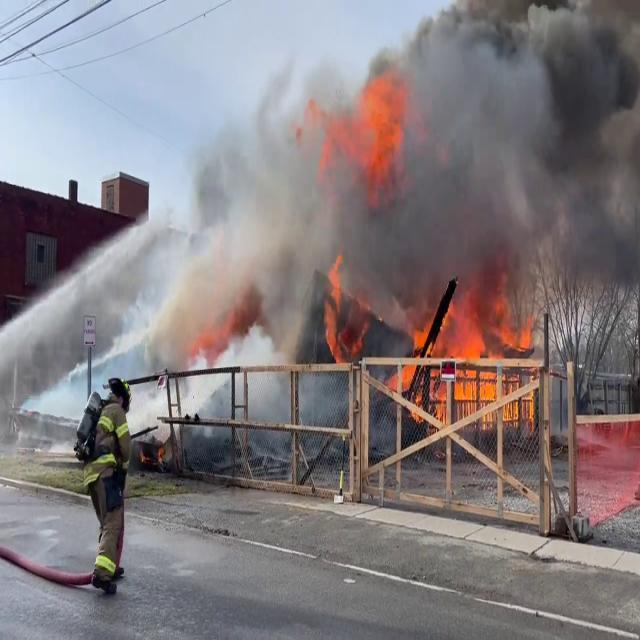Fire: (418, 296, 539, 426), (337, 55, 418, 204)
Smoke: (145, 2, 640, 360)
